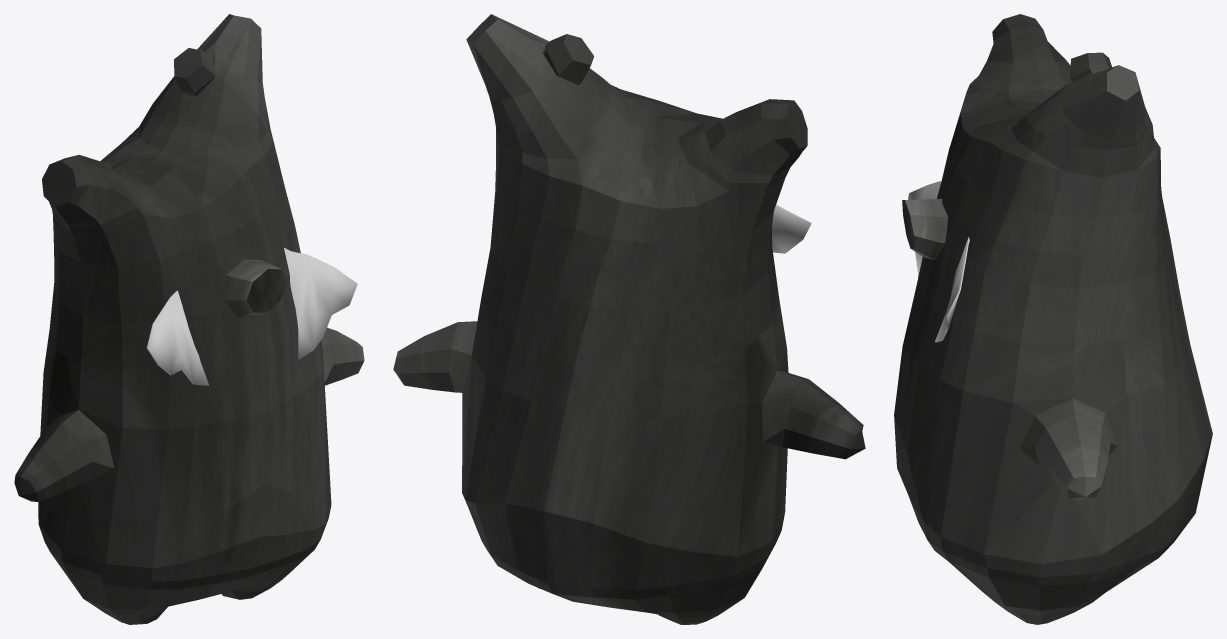
File: frame_0048.obj
3 views of the same model, side by side, from view 1: azimuth 30°, elevation 25°; view 2: azimuth 150°, elevation 25°; view 3: azimuth 270°, elevation 25° (orthographic). The views are drawn at different scales.
Parts seen in each view (by area): view 1: korok, leaf, nose; view 2: korok, leaf; view 3: korok, nose, leaf.
Part boxes in pixels (x1,y1,x2,y2): korok: [14, 14, 364, 624]; leaf: [146, 247, 357, 385]; nose: [223, 259, 286, 317]; korok: [393, 14, 865, 624]; leaf: [772, 204, 811, 253]; korok: [894, 14, 1212, 624]; nose: [902, 198, 948, 259]; leaf: [908, 181, 969, 342].
Size of the model in its own units: 1.7 by 2.3 by 1.16.
